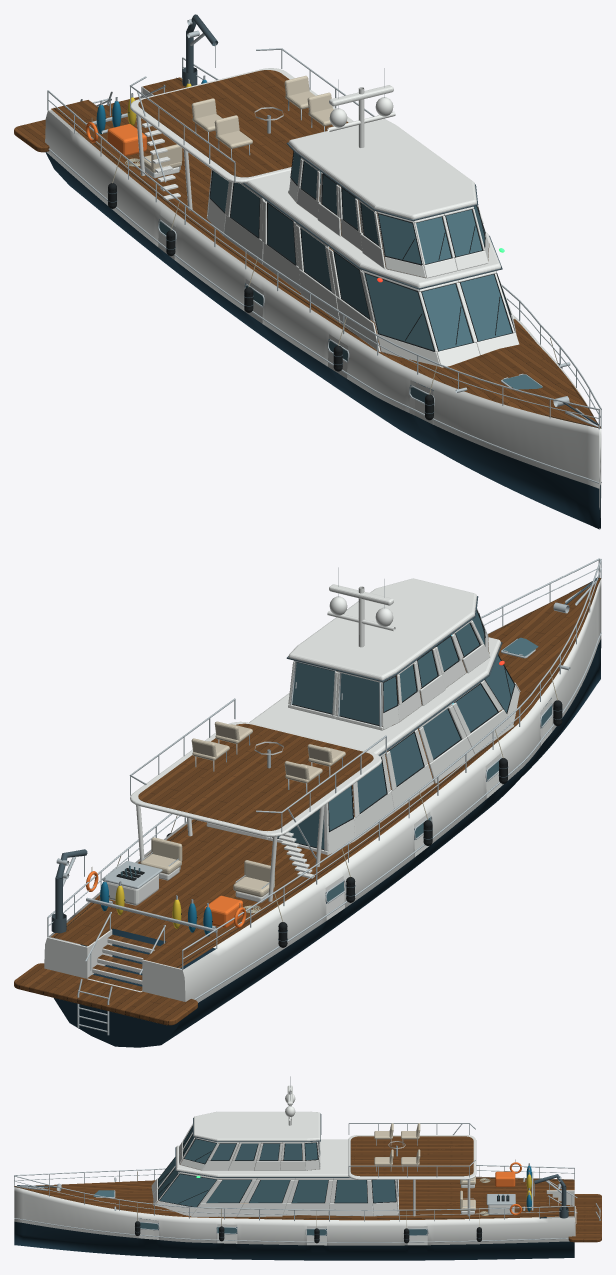
File: aurora_explorer_yacht_v2.glb
The picture shows the model from 3 angles, top to bottom: view 1: azimuth 30°, elevation 25°; view 2: azimuth 150°, elevation 25°; view 3: azimuth 270°, elevation 25°; orthographic projection. The views are drawn at different scales.
Visible parts, largest first — view 1: Aurora 42 continuous curved hull, Transom cheek with dive opening, Aurora 42 fitted teak deck, Salon individual glazing, Salon aft door frame, Salon black glazing seal, Salon captain chair cushion, Salon roof fascia, Safety case; view 2: Aurora 42 fitted teak deck, Transom cheek with dive opening, Aurora 42 continuous curved hull, Salon individual glazing, Salon aft door frame, Salon captain chair cushion, Salon black glazing seal, Lower closed transom, Salon roof fascia, Safety case, Teak curved margin seam; view 3: Aurora 42 continuous curved hull, Transom cheek with dive opening, Aurora 42 fitted teak deck, Salon individual glazing, Salon aft door frame, Salon black glazing seal, Salon captain chair cushion, Salon roof fascia, Safety case, Teak curved margin seam.
Boxes of the visible parts, box(x1,y1,x2,y2) form: Aurora 42 continuous curved hull: box(45, 110, 601, 529); Transom cheek with dive opening: box(48, 68, 519, 367); Aurora 42 fitted teak deck: box(14, 70, 600, 428); Salon individual glazing: box(159, 152, 542, 402); Salon aft door frame: box(47, 19, 601, 483); Salon black glazing seal: box(97, 112, 562, 420); Salon captain chair cushion: box(144, 75, 333, 172); Salon roof fascia: box(107, 14, 598, 425); Safety case: box(86, 122, 146, 156); Aurora 42 fitted teak deck: box(14, 578, 600, 1025); Transom cheek with dive opening: box(44, 578, 520, 1001); Aurora 42 continuous curved hull: box(48, 579, 601, 1044); Salon individual glazing: box(121, 611, 551, 901); Salon aft door frame: box(47, 558, 601, 1035); Salon captain chair cushion: box(140, 647, 435, 897); Salon black glazing seal: box(108, 610, 562, 947); Lower closed transom: box(54, 998, 180, 1047); Salon roof fascia: box(51, 577, 598, 941); Safety case: box(86, 871, 246, 927); Teak curved margin seam: box(54, 578, 600, 967); Aurora 42 continuous curved hull: box(14, 1176, 574, 1260); Transom cheek with dive opening: box(151, 1085, 576, 1236); Aurora 42 fitted teak deck: box(15, 1136, 601, 1242); Salon individual glazing: box(93, 1126, 508, 1235); Salon aft door frame: box(14, 1076, 600, 1242); Salon black glazing seal: box(135, 1126, 509, 1243); Salon captain chair cushion: box(374, 1123, 475, 1210); Salon roof fascia: box(17, 1113, 568, 1239); Safety case: box(495, 1162, 521, 1215); Teak curved margin seam: box(14, 1178, 574, 1218).
Size of the model in its own units: 9.41 by 14.02 by 44.08.
17 materials, 1 textured.
